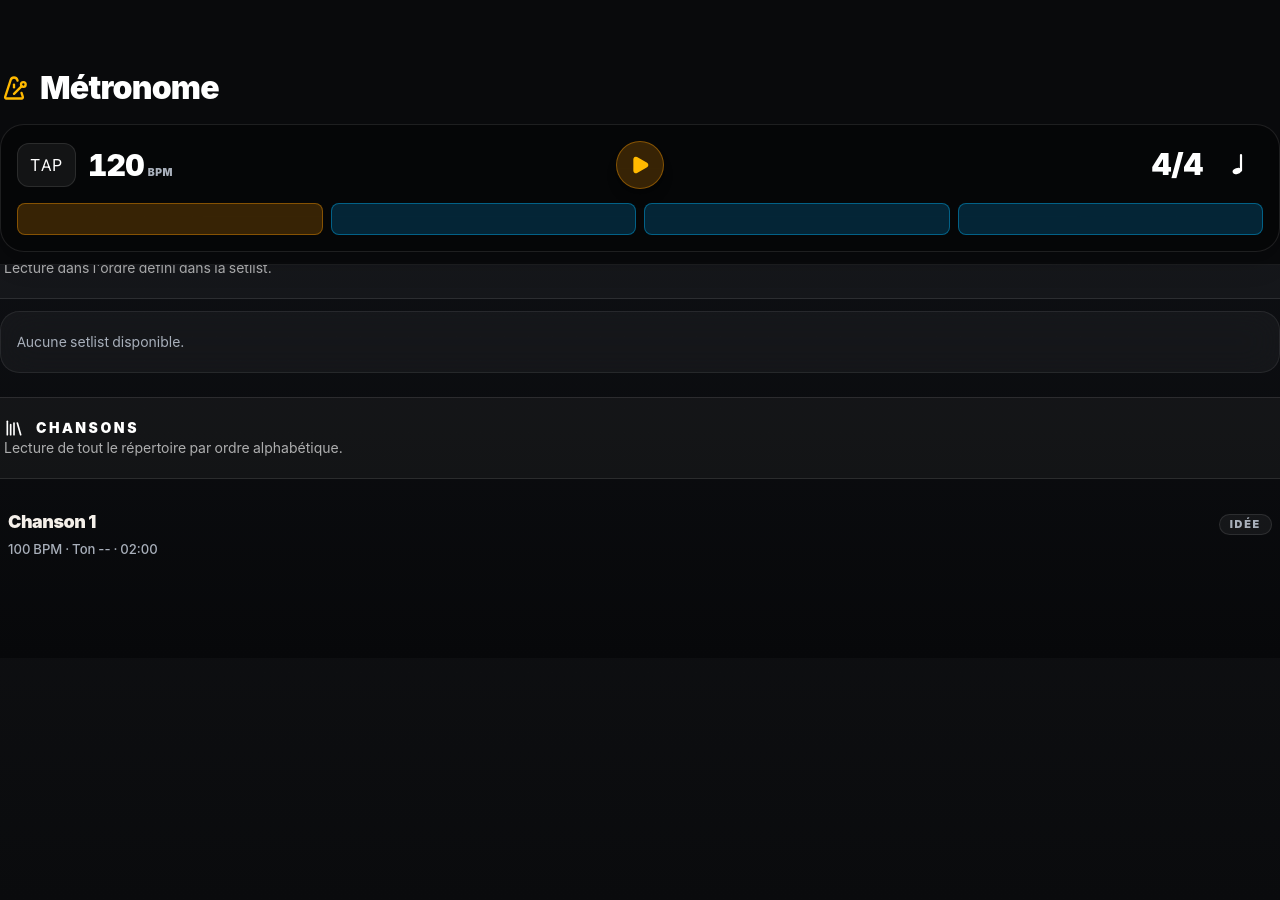
Test: MetronomePage - Pickers Valider & Annuler › annule la modification du tempo si la pop-up est fermée sans valider
What coordinates should you click on to do the following:
click the button "120 BPM"
I would click on:
 (130, 165)
Its box is [84,146,177,184].
(page scrolled)
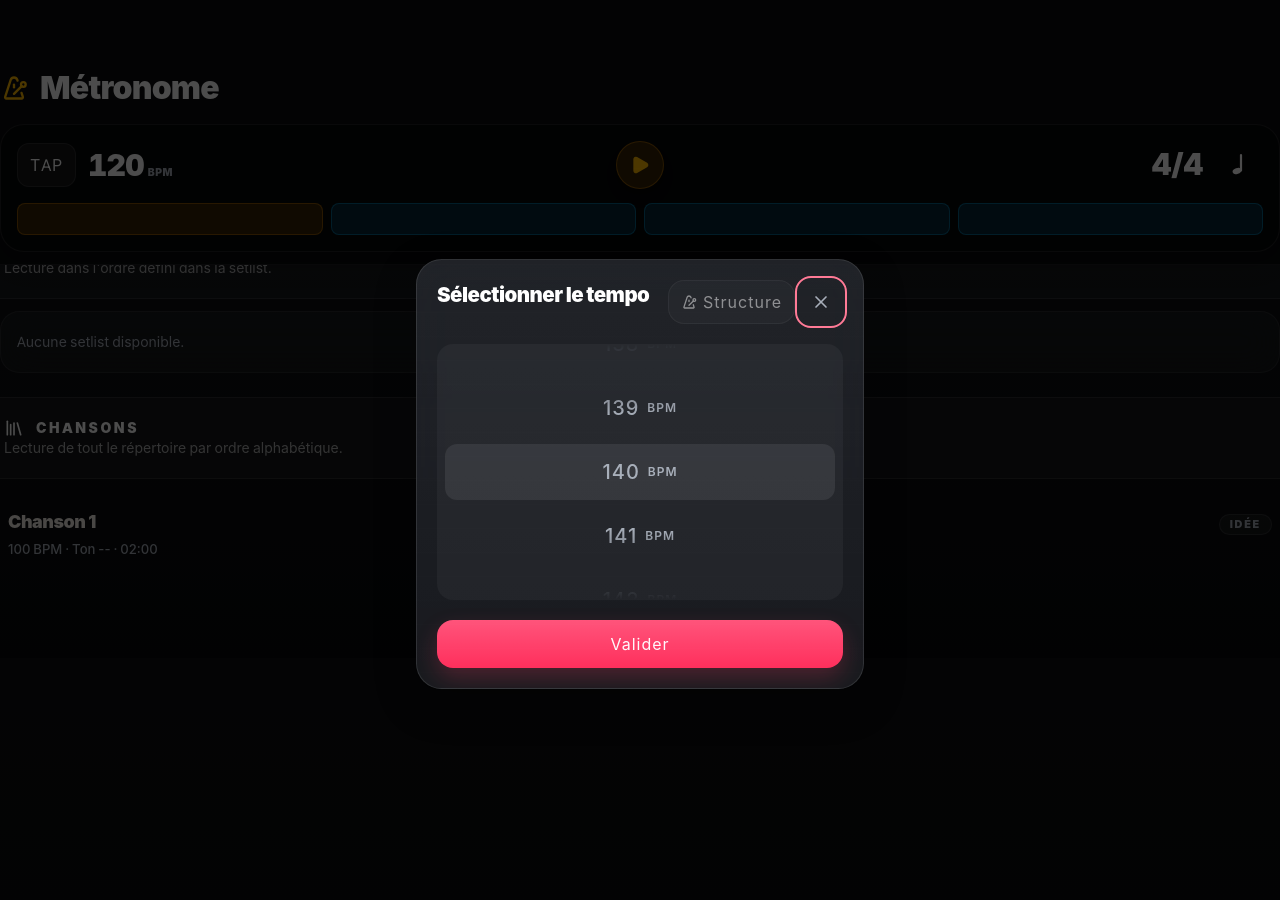
Expected: the dialog "Sélectionner le tempo" is shown, [416,259,864,689]
What coordinates should you click on to do the following:
click the button "140 BPM"
I would click on:
 (640, 472)
Its box is [437,440,843,504].
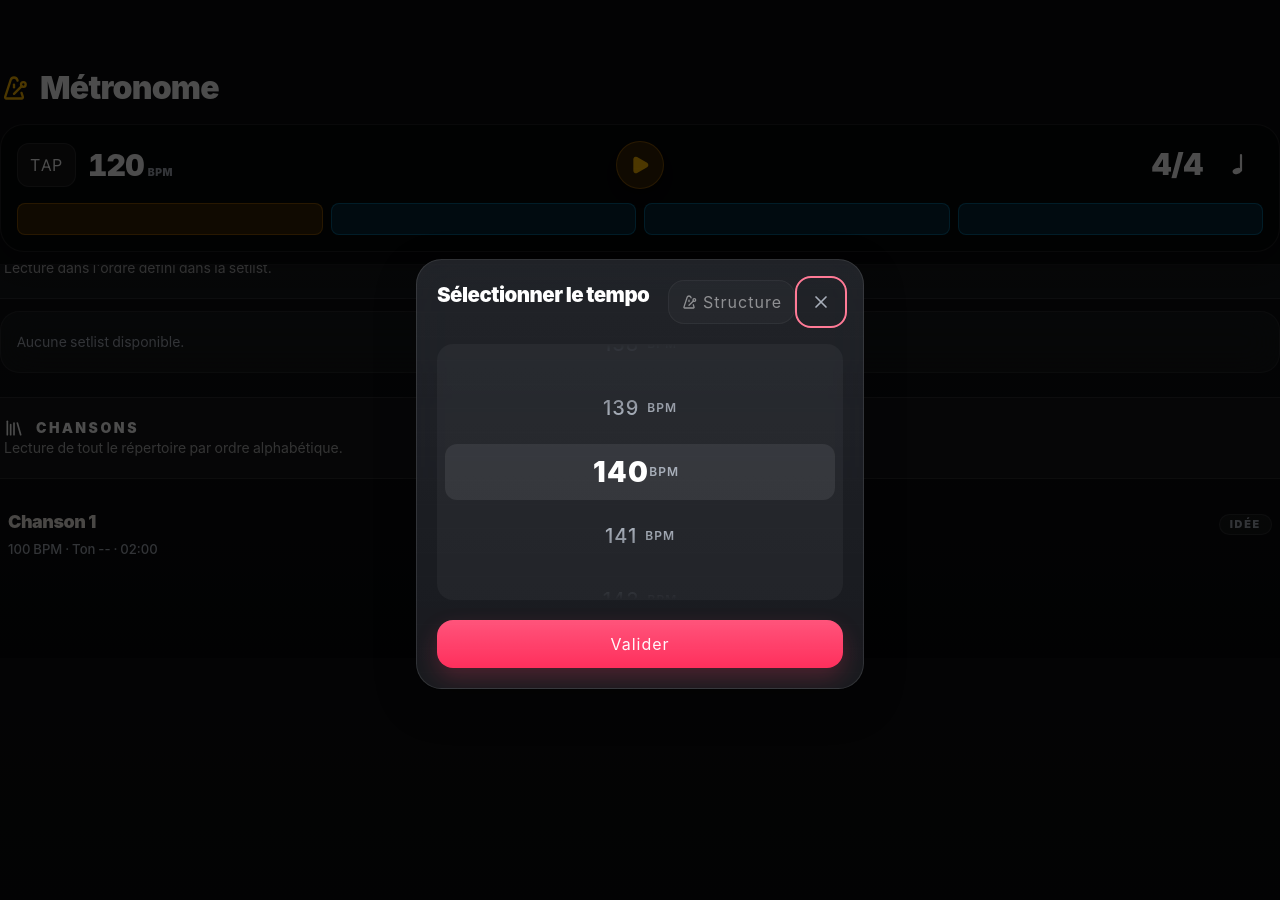
What coordinates should you click on to do the following:
click the button named "Fermer"
I would click on:
 (821, 302)
Its box is [799,280,843,324].
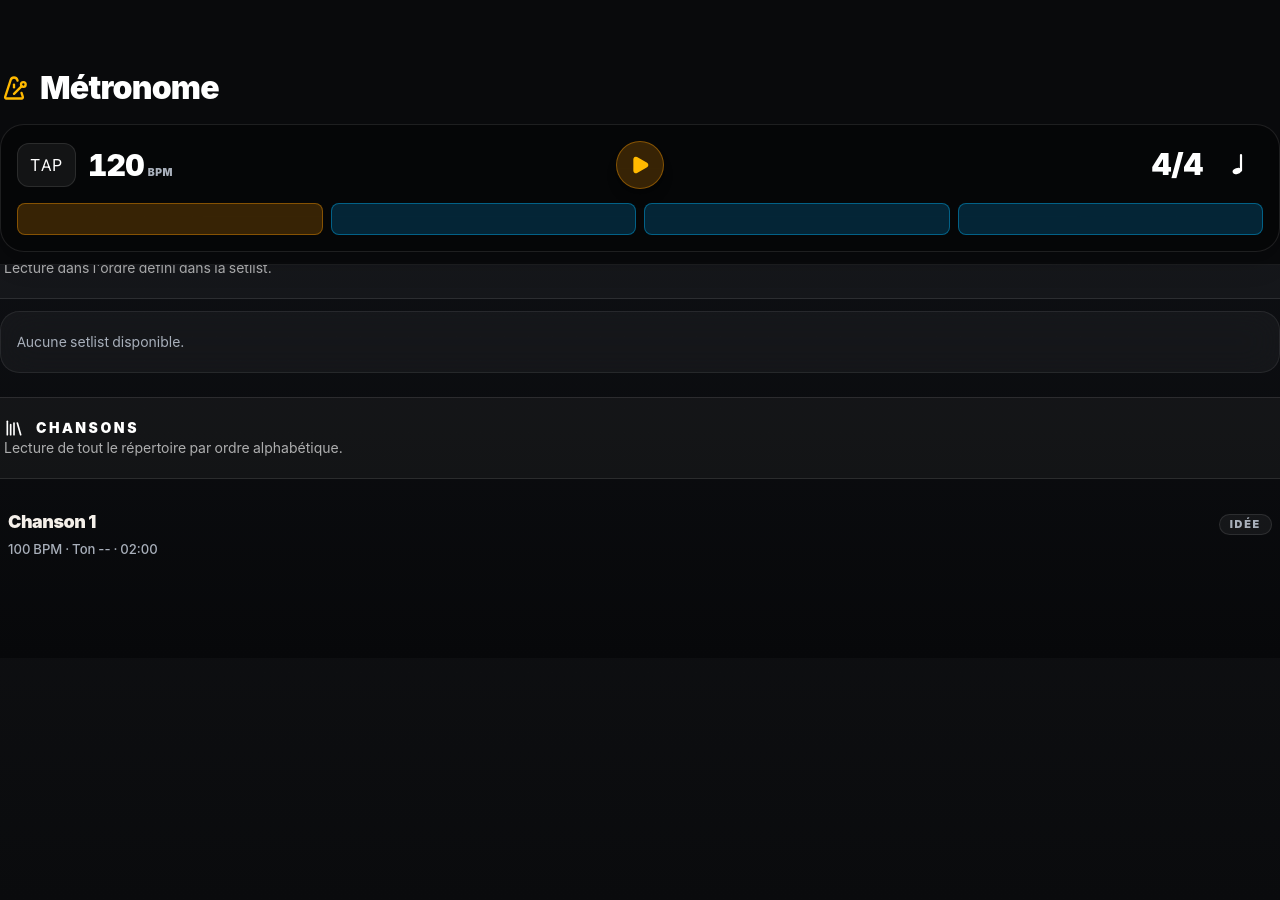
Expected: the button "120 BPM" is shown, [84,146,177,184]
Expected: the heading "Sélectionner le tempo" is gone
Expected: the button "140 BPM" is gone
